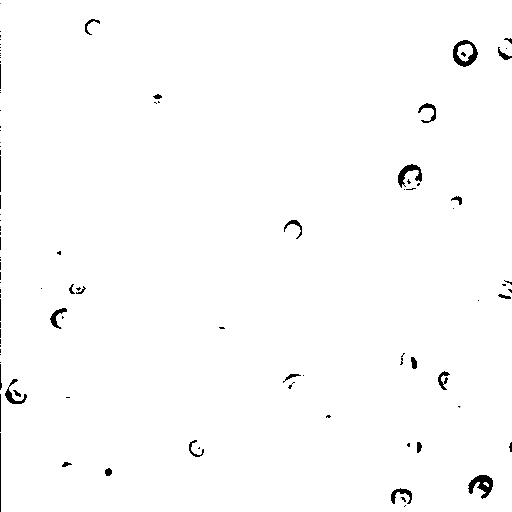micro-algae: (101, 63, 154, 115), (123, 188, 173, 237), (35, 244, 81, 287), (29, 279, 66, 314), (90, 455, 124, 489), (382, 17, 417, 50), (397, 343, 427, 381), (278, 373, 313, 400), (467, 472, 495, 501), (397, 161, 423, 192), (452, 39, 479, 67), (120, 339, 149, 365), (294, 0, 338, 17), (3, 377, 28, 405), (388, 486, 414, 510), (108, 35, 135, 57), (47, 307, 74, 329), (281, 218, 305, 241), (427, 498, 469, 511), (57, 394, 80, 416), (53, 459, 74, 483), (491, 277, 511, 302), (496, 34, 512, 61), (417, 102, 437, 123), (187, 437, 205, 459), (437, 371, 456, 391), (66, 280, 88, 297), (405, 436, 424, 455), (83, 17, 101, 37), (470, 300, 487, 315), (448, 195, 463, 209), (1, 372, 10, 394)
